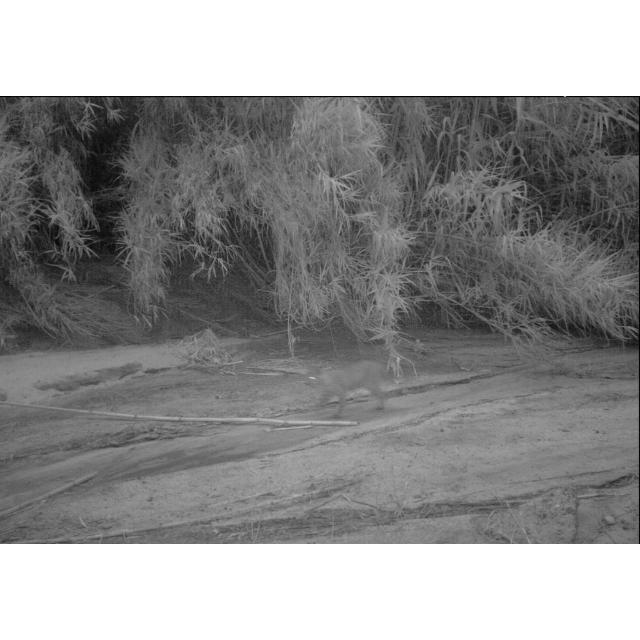animals: (303, 356, 391, 419)
